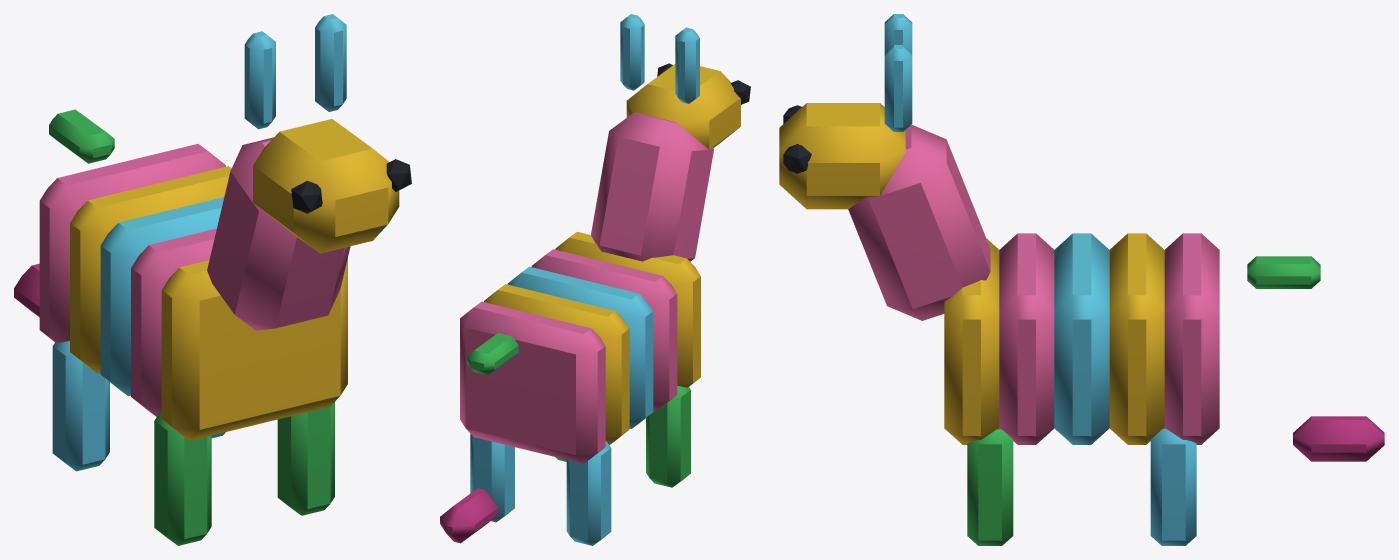
File: w_g_pinata.glb
3 views of the same model, side by side, from view 1: azimuth 30°, elevation 25°; view 2: azimuth 150°, elevation 25°; view 3: azimuth 270°, elevation 25° (orthographic). The views are drawn at different scales.
Parts seen in each view (by area): view 1: body; view 2: body; view 3: body.
Part boxes in pixels (left/top/right/bottom): body: left=14, top=14, right=411, bottom=545; body: left=440, top=14, right=750, bottom=545; body: left=779, top=14, right=1384, bottom=545.
Size of the model in its own units: 0.1 by 0.29 by 0.33.
